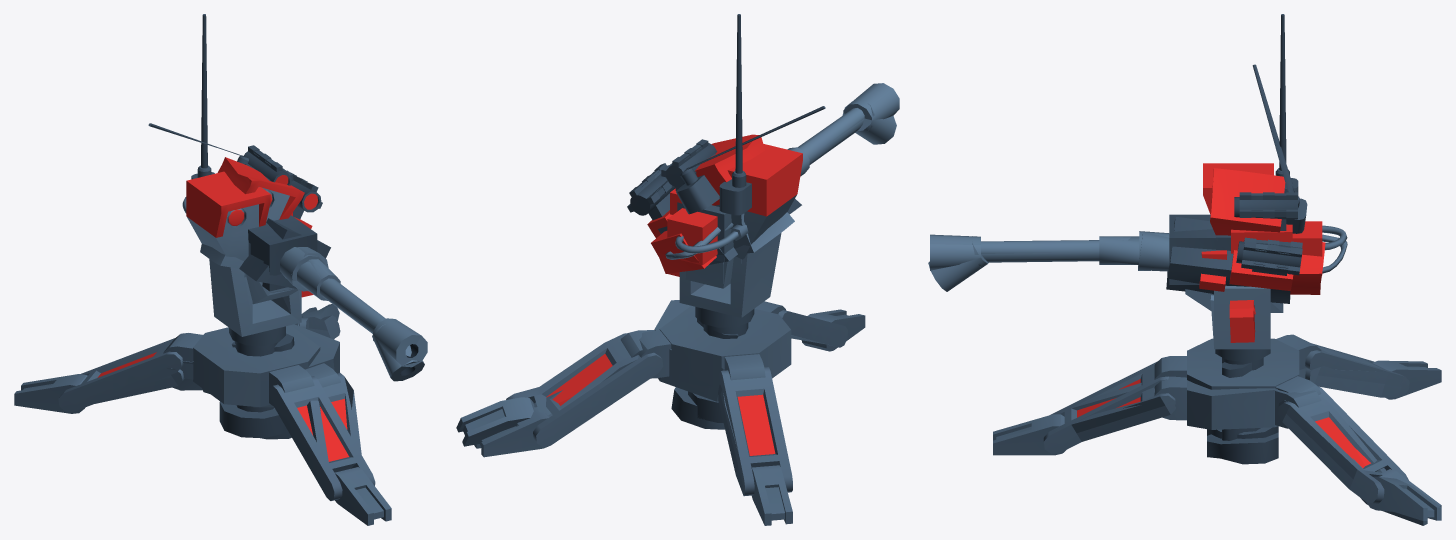
The model's file is Turret.fbx.
The picture shows the model from 3 angles, left to right: view 1: azimuth 30°, elevation 25°; view 2: azimuth 150°, elevation 25°; view 3: azimuth 270°, elevation 25°; orthographic projection. The views are drawn at different scales.
Visible parts, largest first — view 1: turret, turretGun, turretGunDestroyed, turretDestroyed; view 2: turret, turretGun, turretGunDestroyed, turretDestroyed; view 3: turretDestroyed, turretGunDestroyed, turretGun, turret.
Part boxes in pixels (x1=…): turret: x1=14, y1=323, x2=391, y2=525; turretGun: x1=182, y1=14, x2=427, y2=367; turretGunDestroyed: x1=148, y1=123, x2=424, y2=381; turretDestroyed: x1=17, y1=304, x2=391, y2=525; turret: x1=474, y1=301, x2=864, y2=525; turretGun: x1=661, y1=14, x2=899, y2=326; turretGunDestroyed: x1=627, y1=100, x2=896, y2=327; turretDestroyed: x1=456, y1=300, x2=865, y2=524; turretDestroyed: x1=997, y1=360, x2=1441, y2=520; turretGunDestroyed: x1=928, y1=64, x2=1347, y2=361; turretGun: x1=930, y1=14, x2=1347, y2=361; turret: x1=993, y1=334, x2=1441, y2=525.
Bounding box in the file's own units: 529 × 640 × 712.
